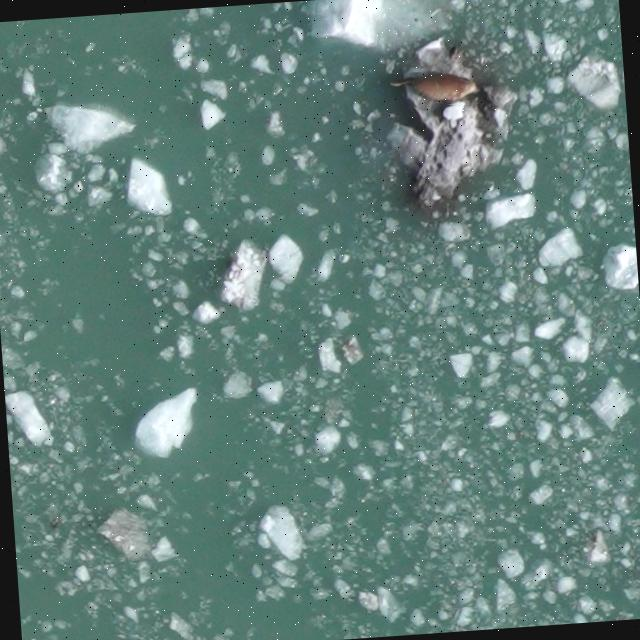seal: (386, 68, 481, 108)
